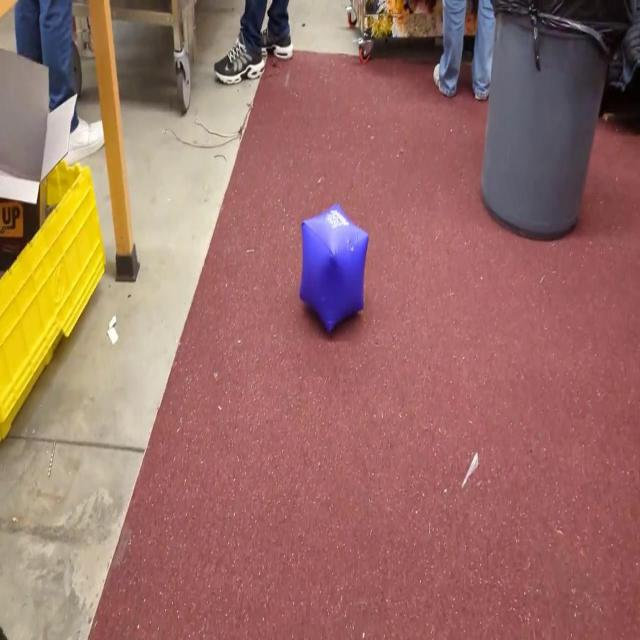frc_cube: (299, 200, 369, 336)
